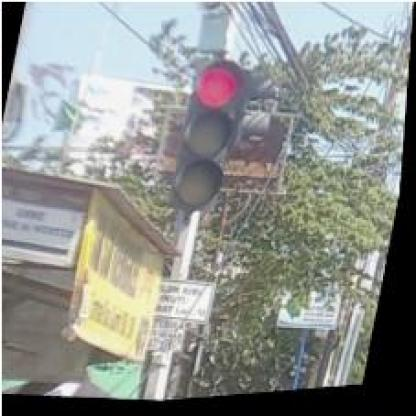red: (170, 59, 248, 216)
